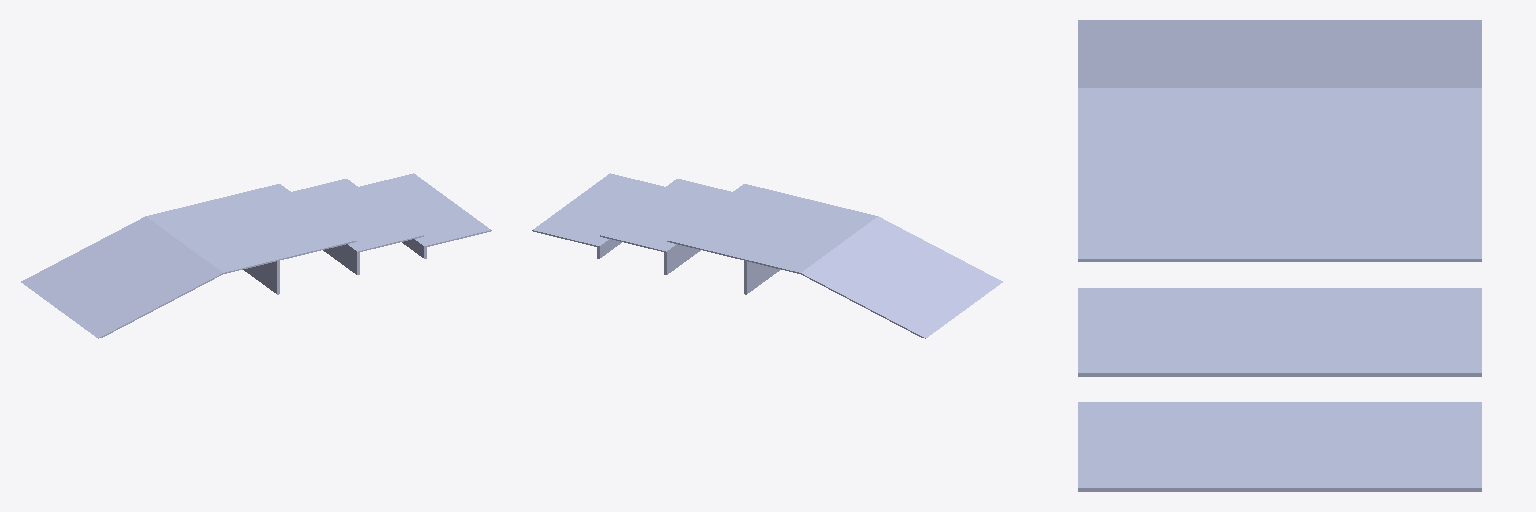
The robot description file, URDF, robot "map15":
<?xml version="1.0" encoding="utf-8"?>
<!-- This URDF was automatically created by SolidWorks to URDF Exporter! Originally created by [author] ([email redacted]) 
     Commit Version: 1.6.0-1-g15f4949  Build Version: 1.6.7594.29634
     For more information, please see http://wiki.ros.org/sw_urdf_exporter -->
<robot
  name="map15">
  <link
    name="base_link">
    <inertial>
      <origin
        xyz="0.105388642663719 4.44089209850063E-16 -0.102526905586907"
        rpy="0 0 0" />
      <mass
        value="38.7155860689288" />
      <inertia
        ixx="3.40799068038621"
        ixy="-2.31531835257966E-15"
        ixz="-0.687199320366897"
        iyy="6.92525757632893"
        iyz="-1.28898374997037E-15"
        izz="9.96986457409752" />
    </inertial>
    <visual>
      <origin
        xyz="0 0 0"
        rpy="0 0 0" />
      <geometry>
        <mesh
          filename="package://map15/meshes/base_link.STL" />
      </geometry>
      <material
        name="">
        <color
          rgba="0.792156862745098 0.819607843137255 0.933333333333333 1" />
      </material>
    </visual>
    <collision>
      <origin
        xyz="0 0 0"
        rpy="0 0 0" />
      <geometry>
        <mesh
          filename="package://map15/meshes/base_link.STL" />
      </geometry>
    </collision>
  </link>
</robot>

--- Facts derived from the render (not from the file) ---
3 views of the same robot in one strip: view 1: azimuth 30°, elevation 25°; view 2: azimuth 150°, elevation 25°; view 3: azimuth 270°, elevation 25° (orthographic).
Model map15 with 1 links and 0 joints (none), rooted at base_link, posed every joint at zero.
Links seen in each view (by area): view 1: base_link; view 2: base_link; view 3: base_link.
Link boxes in pixels (x1,y1,x2,y2): base_link: (21, 173, 491, 338); base_link: (532, 173, 1002, 338); base_link: (1078, 20, 1481, 491).
Size in the robot's own frame: 2.93 by 1 by 0.25 metres.
1 mesh visuals loaded from 1 distinct referenced files (1 binary STL).